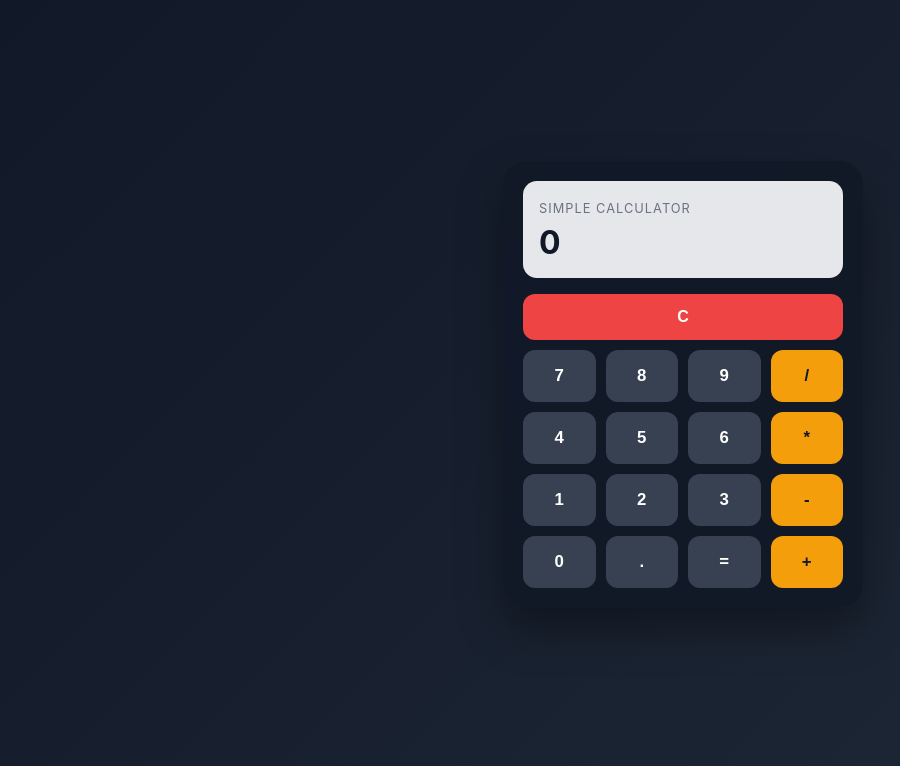
Calculator app › adds two numbers correctly
Click the button "2": (642,500) [606,474,678,526]
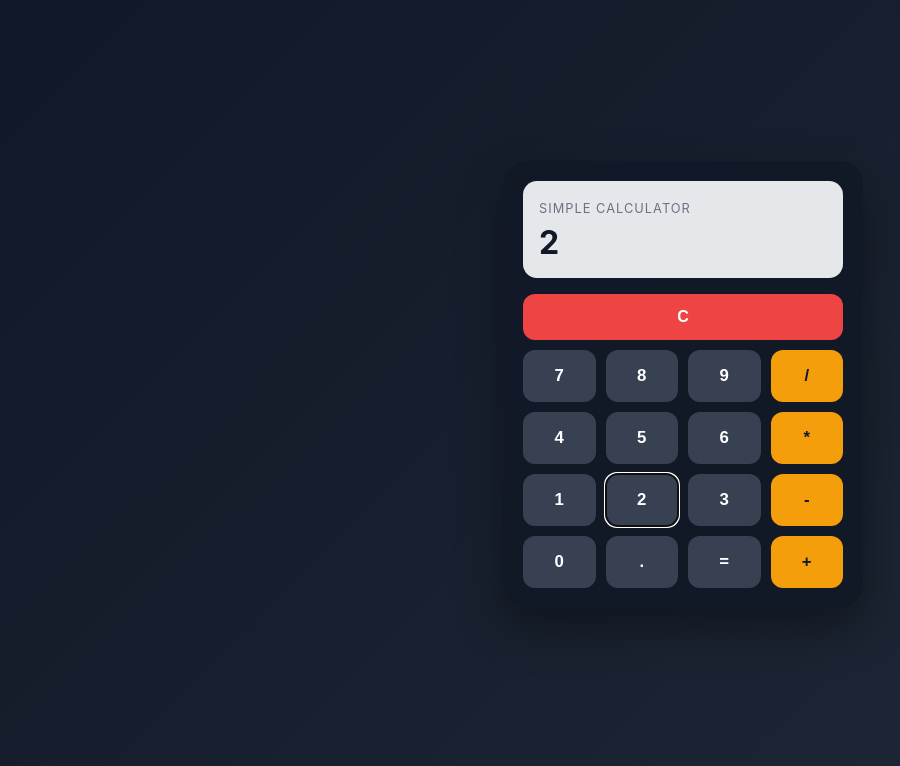
Click the button "+": (807,562) [770,536,843,588]
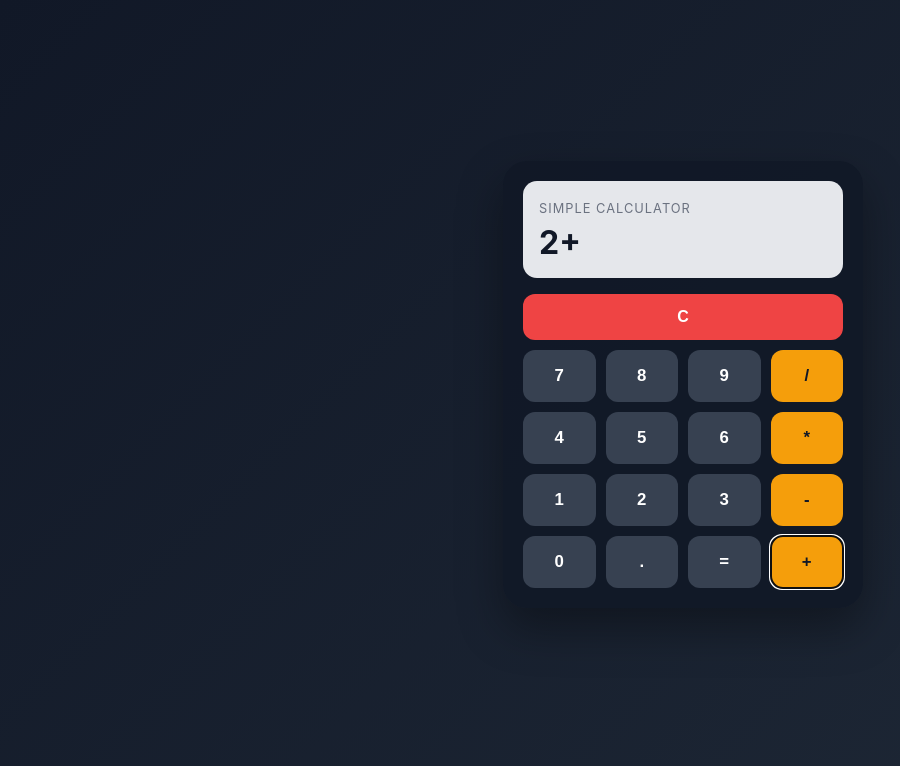
Click the button "3": (724,500) [688,474,760,526]
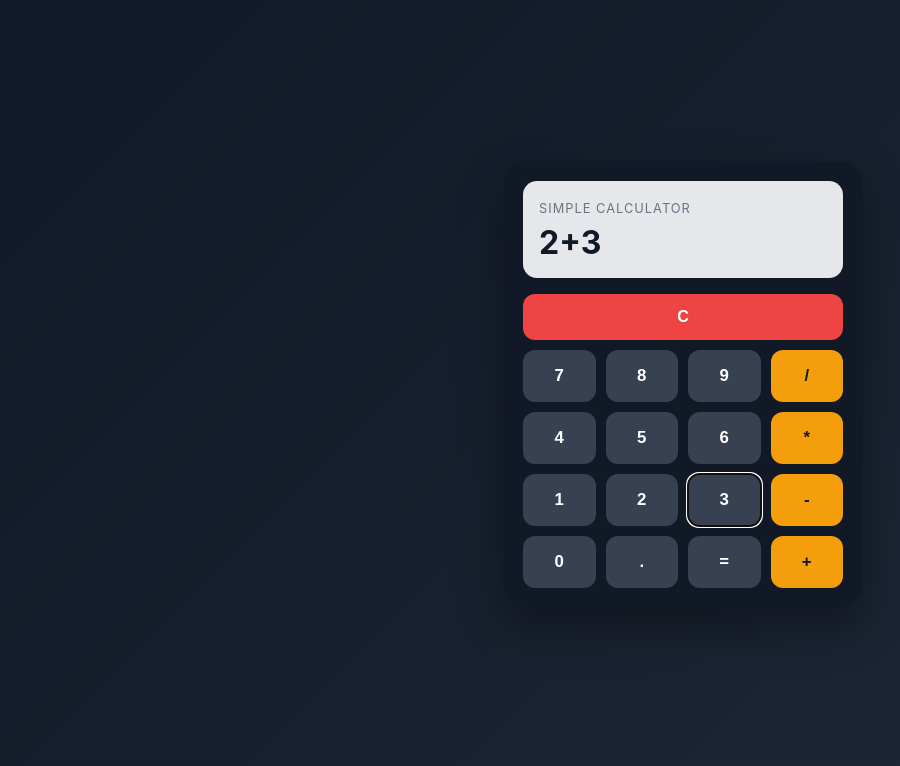
Click the button "=": (724,562) [688,536,760,588]
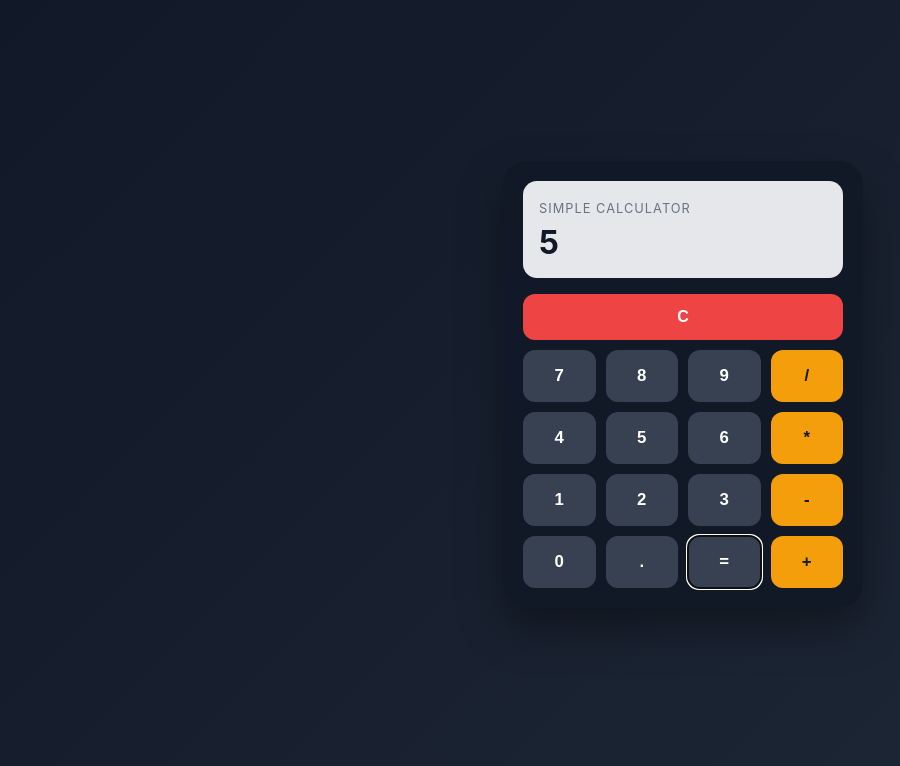
Check: the text "5" is shown, box [539,222,559,262]
